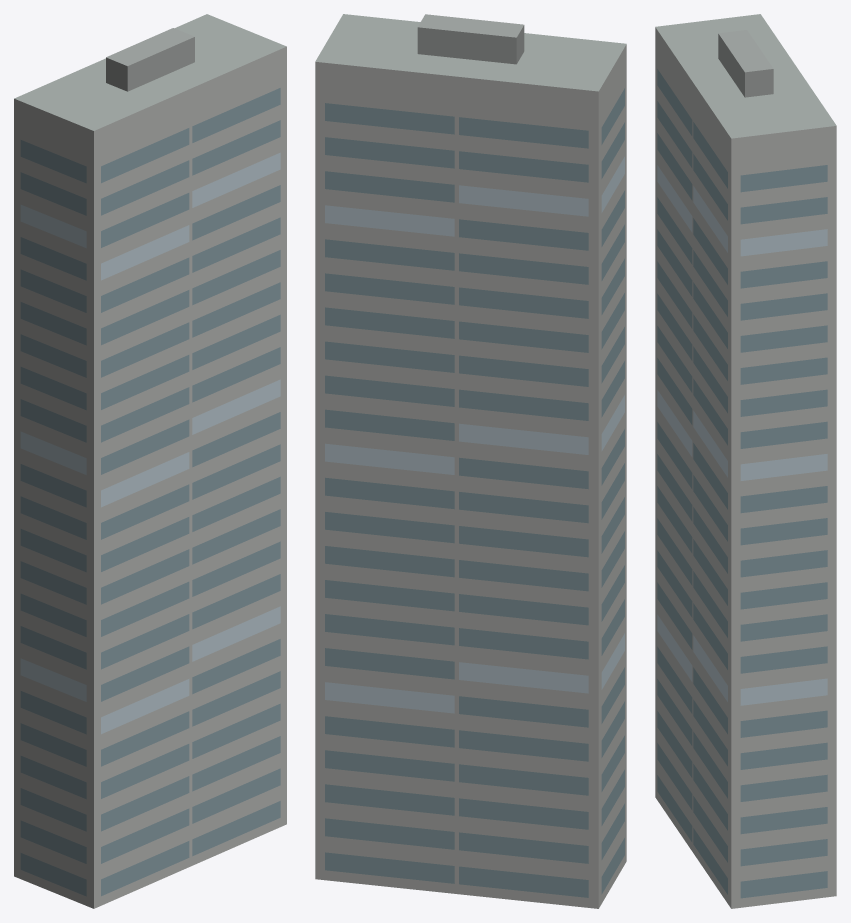
The model's file is fallback-olympic-athletes-village-315.glb.
3 renders of one model, left to right at view 1: azimuth 30°, elevation 25°; view 2: azimuth 150°, elevation 25°; view 3: azimuth 270°, elevation 25°, orthographic. The views are drawn at different scales.
Parts seen in each view (by area): view 1: fallback-olympic-athletes-village-315; view 2: fallback-olympic-athletes-village-315; view 3: fallback-olympic-athletes-village-315.
Boxes of the visible parts, x1,y1,x2,y2 form: fallback-olympic-athletes-village-315: (14, 14, 286, 908); fallback-olympic-athletes-village-315: (315, 14, 626, 908); fallback-olympic-athletes-village-315: (655, 14, 836, 908).
Size of the model in its own units: 25.4 by 75.6 by 15.64.
